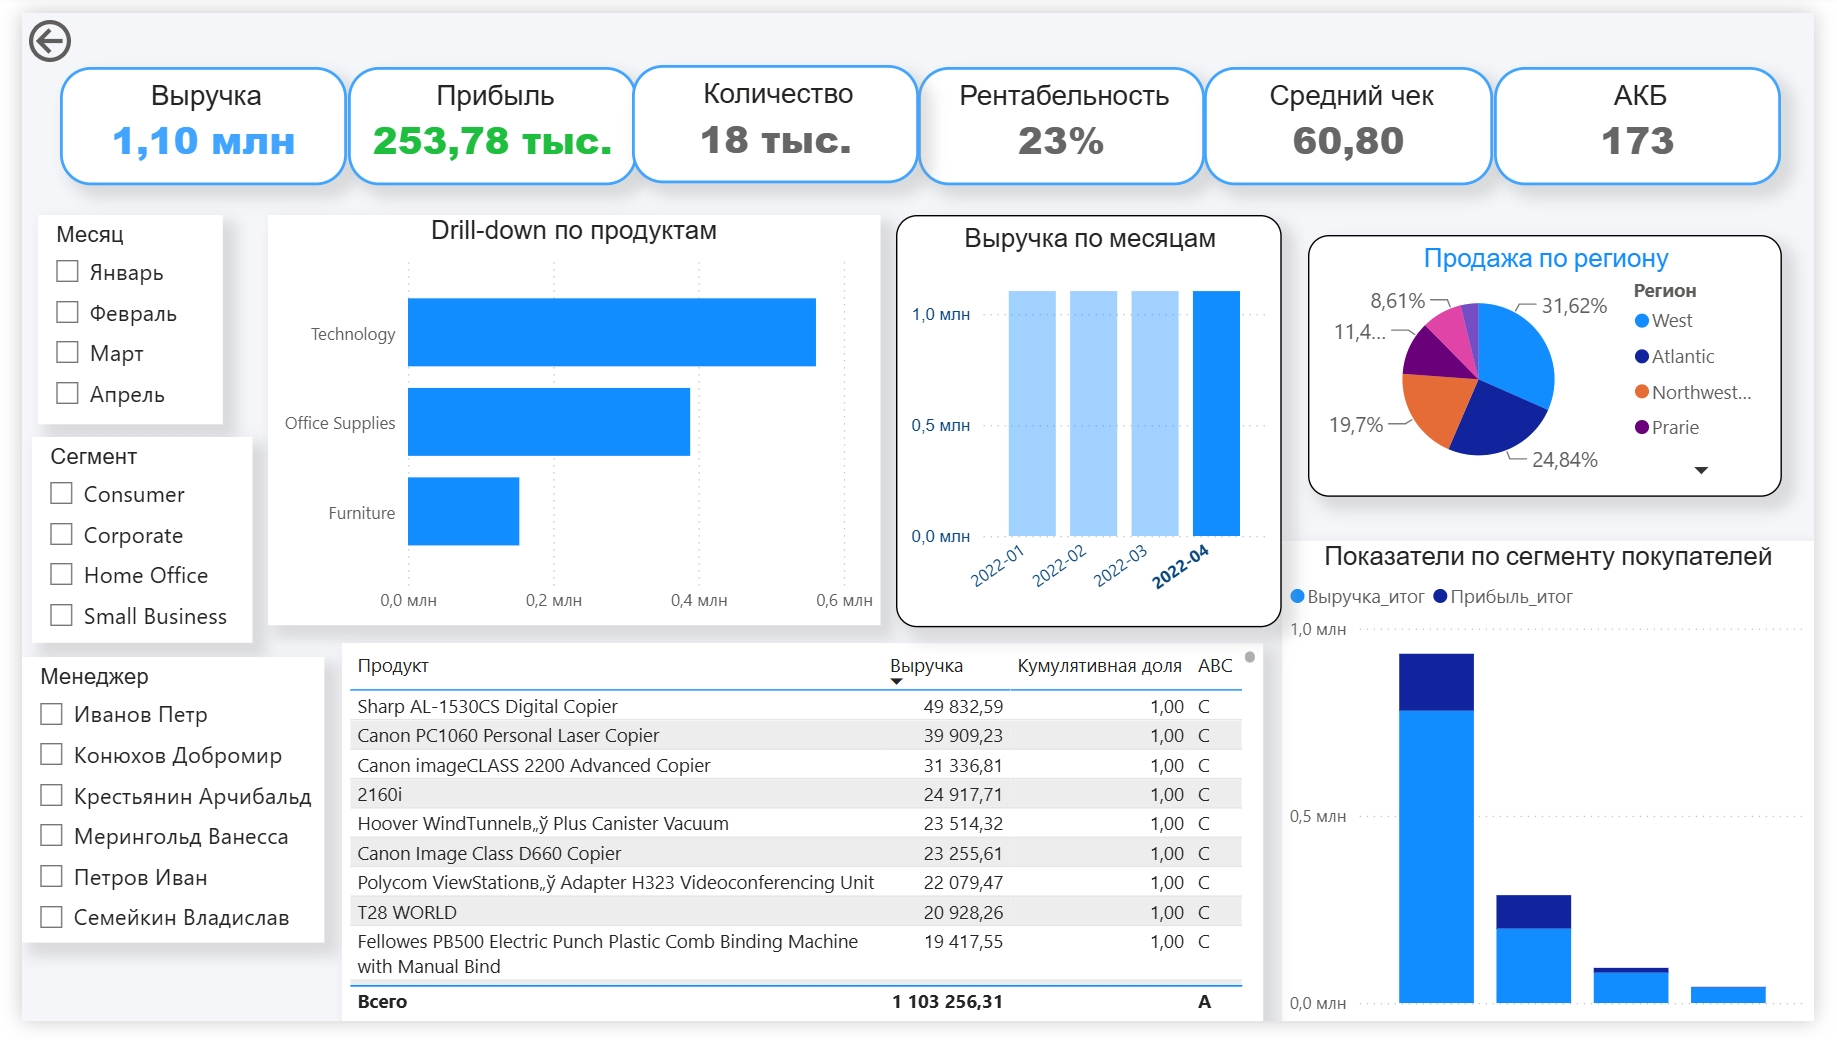

The dashboard page shown, as its layout file describes it:
{"tool":"powerbi","page":{"name":"Страница 1","canvas":[1280,720],"ordinal":0},"visuals":[{"type":"slicer","fields":{"Values":["Календарь.Месяц"]},"box":[10.9,144.1,131.8,149.5],"z":0},{"type":"card","title":"Выручка","fields":{"Values":["Sum(Продажи.Выручка)"]},"box":[27.5,38.1,205.2,84.3],"z":1000},{"type":"card","title":"Прибыль","fields":{"Values":["Sum(Продажи.Прибыль)"]},"box":[232.8,38.1,206.6,84.3],"z":2000},{"type":"slicer","fields":{"Values":["СПР_покупатели.Сегмент покупателя"]},"box":[6.8,303.1,157.7,146.8],"z":4000},{"type":"slicer","fields":{"Values":["СПР_Менеджеры.Менеджер"]},"box":[0,459.4,216.1,203.9],"z":5000},{"type":"card","title":"Рентабельность","fields":{"Values":["Продажи.Рентабельность"]},"box":[640.5,38.1,205.2,84.3],"z":6000},{"type":"card","title":"Средний чек","fields":{"Values":["Продажи.Средний чек"]},"box":[844.4,38.1,206.6,84.3],"z":7000},{"type":"card","title":"АКБ","fields":{"Values":["Продажи.АКБ"]},"box":[1050.9,38.1,205.2,84.3],"z":8000},{"type":"columnChart","title":"Показатели по сегменту покупателей","fields":{"Category":["СПР_покупатели.Сегмент покупателя"],"Y":["Продажи.Выручка_итог","Продажи.Прибыль_итог"]},"box":[899.7,376.5,380.5,343.9],"z":9000},{"type":"clusteredBarChart","title":"Drill-down по продуктам","fields":{"Category":["СПР_продукты.Категория продукта","СПР_продукты.Подкатегория продукта","Продажи.Продукт"],"Y":["Продажи.Выручка_итог"]},"box":[176.3,144.1,437.3,293.2],"z":10000},{"type":"actionButton","box":[0,0,100,40],"z":11000},{"type":"tableEx","fields":{"Values":["Продажи.Продукт","Sum(Продажи.Выручка)","Продажи.Кумулятивная доля","Продажи.ABC"]},"box":[228.3,449.9,657.8,270.5],"z":12000},{"type":"tableEx","fields":{"Values":["СПР_Менеджеры.Менеджер","Продажи.Прибыль_итог","Продажи.Кол-во заказов"]},"box":[901.1,167.2,379.2,193],"z":13000},{"type":"map","title":"Выручка по регионам","fields":{"Category":["Продажи.Регион"],"Size":["Sum(Продажи.Выручка)"]},"box":[626.5,167.2,259.6,270.5],"z":14000},{"type":"card","title":"Количество","fields":{"Values":["Sum(Продажи.Количество)"]},"box":[435.6,37.3,205.1,84.7],"z":14001}]}

Visuals, with their boxes in screenshot pixels (x1, y1, x2, y2), scaled from the page's 1280x720 canvas onto the 1837x1040 screenshot:
slicer - Календарь.Месяц: 16 208 205 424
"Выручка" card: 39 55 334 177
"Прибыль" card: 334 55 631 177
slicer - СПР_покупатели.Сегмент покупателя: 10 438 236 650
slicer - СПР_Менеджеры.Менеджер: 0 664 310 958
"Рентабельность" card: 919 55 1214 177
"Средний чек" card: 1212 55 1508 177
"АКБ" card: 1508 55 1803 177
"Показатели по сегменту покупателей" columnChart: 1291 544 1836 1039
"Drill-down по продуктам" clusteredBarChart: 253 208 881 632
actionButton: 0 0 144 58
tableEx - Продажи.Продукт x Sum(Продажи.Выручка): 328 650 1272 1039
tableEx - СПР_Менеджеры.Менеджер x Продажи.Прибыль_итог: 1293 242 1836 520
"Выручка по регионам" map: 899 242 1272 632
"Количество" card: 625 54 920 176
